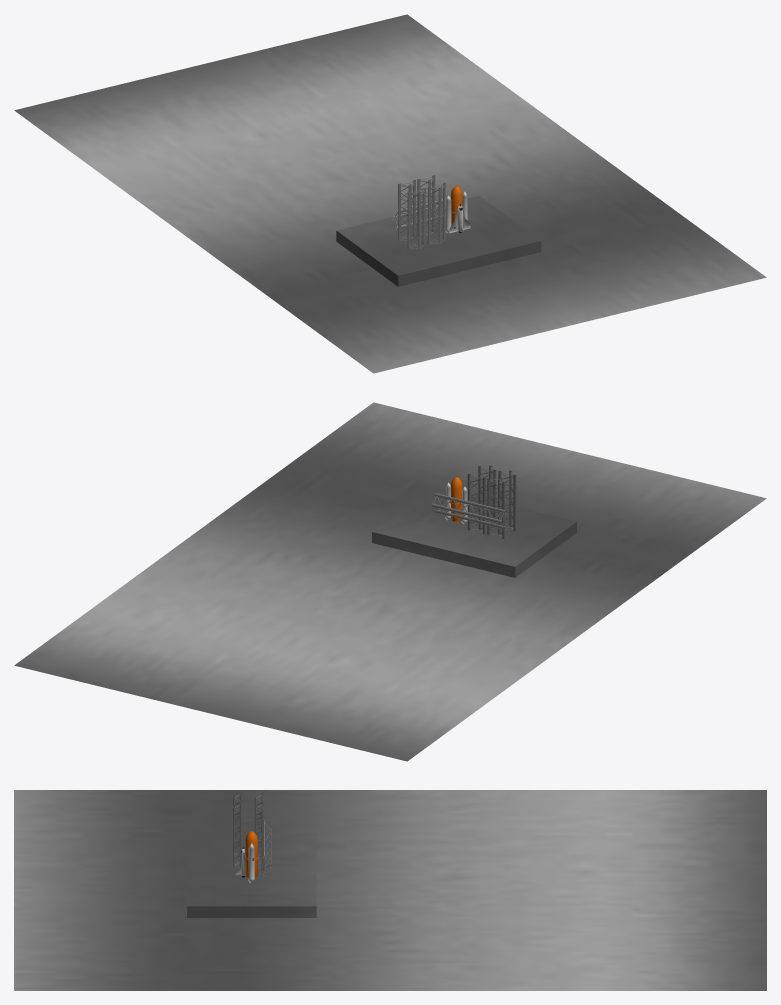
The picture shows the model from 3 angles, top to bottom: view 1: azimuth 30°, elevation 25°; view 2: azimuth 150°, elevation 25°; view 3: azimuth 270°, elevation 25°; orthographic projection. The views are drawn at different scales.
Parts seen in each view (by area): view 1: Plane.001_7, Truss.003_12, Truss_9, Truss.002_11; view 2: Plane.001_7, Truss.004_13, Truss.001_10, Truss.002_11, Truss.003_12; view 3: Plane.001_7, Truss_9, Cylinder_1, Truss.001_10.
Boxes of the visible parts, x1,y1,x2,y2 form: Plane.001_7: (14,14,766,373); Truss.003_12: (407,188,425,249); Truss_9: (428,183,445,244); Truss.002_11: (398,180,415,240); Plane.001_7: (14,402,766,761); Truss.004_13: (431,493,505,529); Truss.001_10: (467,473,485,534); Truss.002_11: (487,478,505,539); Truss.003_12: (498,470,516,531); Plane.001_7: (14,790,766,990); Truss_9: (233,802,241,869); Cylinder_1: (244,831,258,877); Truss.001_10: (254,802,263,870).
Size of the model in its own units: 512 by 83.85 by 811.
10 materials, 10 textured.
